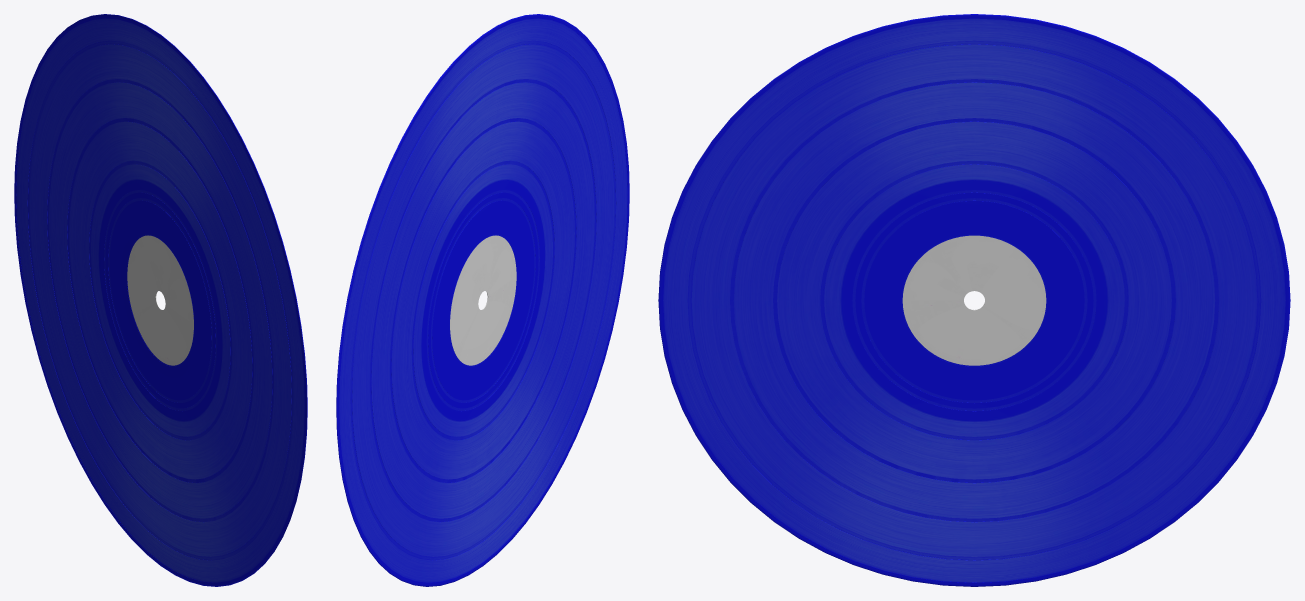
The model's file is Vinyl_disc.glb.
3 renders of one model, left to right at view 1: azimuth 30°, elevation 25°; view 2: azimuth 150°, elevation 25°; view 3: azimuth 270°, elevation 25°, orthographic. The views are drawn at different scales.
Parts seen in each view (by area): view 1: Disc; view 2: Disc; view 3: Disc.
Part boxes in pixels (x1,y1,x2,y2): Disc: (14, 14, 307, 586); Disc: (336, 14, 629, 586); Disc: (658, 14, 1290, 586).
Size of the model in its own units: 0.0052 by 2.47 by 2.47.
Materials: 1 (1 with a texture image).
